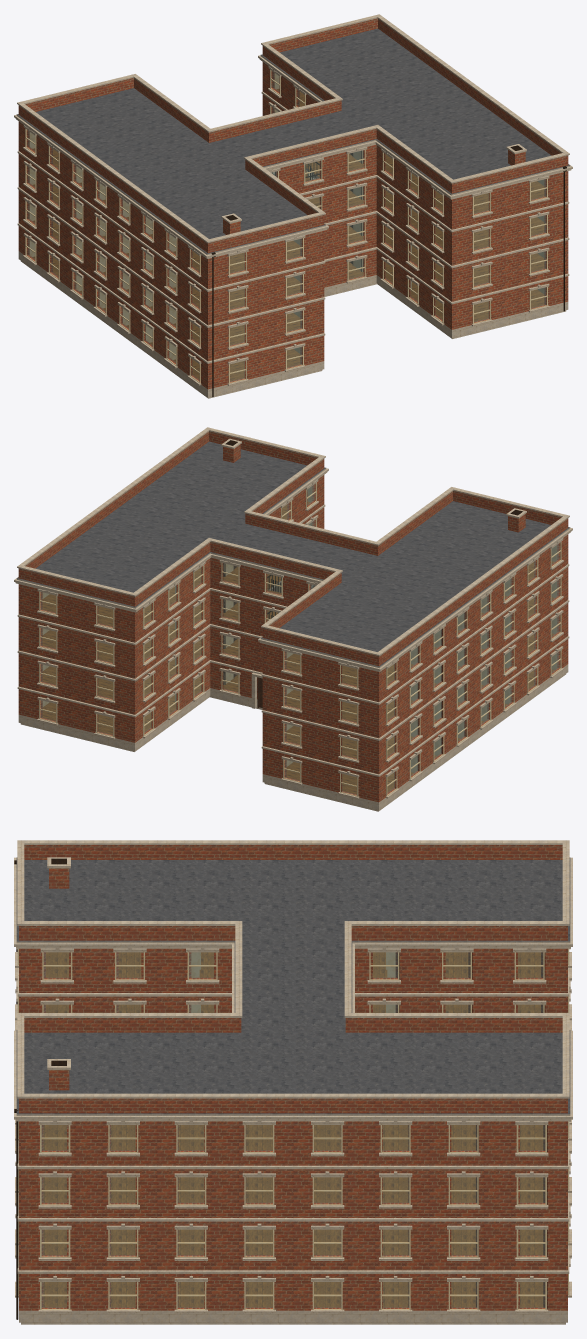
File: bellwether-court.gltf
3 views of the same model, one above another, from view 1: azimuth 30°, elevation 25°; view 2: azimuth 150°, elevation 25°; view 3: azimuth 270°, elevation 25° (orthographic). The views are drawn at different scales.
Parts seen in each view (by area): view 1: roof-L4-felt, exterior-L2-brick, exterior-L1-brick, exterior-L3-brick, parapet-L4-brick, exterior-L0-brick, parapet-L4-stone, exterior-L0-stone, facade-trim-L3-stone, facade-trim-L2-stone, facade-trim-L1-stone, cornice-L4-stone (+20 smaller); view 2: roof-L4-felt, exterior-L2-brick, exterior-L1-brick, exterior-L3-brick, parapet-L4-brick, exterior-L0-brick, parapet-L4-stone, exterior-L0-stone, facade-trim-L3-stone, facade-trim-L2-stone, facade-trim-L1-stone, cornice-L4-stone (+20 smaller); view 3: roof-L4-felt, exterior-L3-brick, parapet-L4-brick, exterior-L2-brick, exterior-L1-brick, parapet-L4-stone, exterior-L0-brick, facade-trim-L3-stone, glazing-L3-glass, floor-L3-wood, cornice-L4-stone, exterior-L0-stone (+17 smaller).
Part boxes in pixels (x1,y1,x2,y2): roof-L4-felt: [17, 28, 569, 253]; exterior-L2-brick: [18, 94, 568, 325]; exterior-L1-brick: [18, 174, 568, 361]; exterior-L3-brick: [18, 62, 568, 289]; parapet-L4-brick: [18, 18, 568, 252]; exterior-L0-brick: [18, 174, 568, 389]; parapet-L4-stone: [17, 14, 569, 243]; exterior-L0-stone: [18, 251, 568, 397]; facade-trim-L3-stone: [17, 66, 569, 291]; facade-trim-L2-stone: [17, 102, 569, 327]; facade-trim-L1-stone: [17, 174, 569, 363]; cornice-L4-stone: [14, 55, 572, 258]; roof-L4-felt: [17, 441, 569, 666]; exterior-L2-brick: [18, 507, 568, 738]; exterior-L1-brick: [18, 585, 568, 774]; exterior-L3-brick: [18, 475, 568, 702]; parapet-L4-brick: [18, 431, 568, 665]; exterior-L0-brick: [18, 639, 568, 802]; parapet-L4-stone: [17, 427, 569, 656]; exterior-L0-stone: [18, 664, 568, 810]; facade-trim-L3-stone: [17, 479, 569, 704]; facade-trim-L2-stone: [17, 515, 569, 740]; facade-trim-L1-stone: [17, 585, 569, 776]; cornice-L4-stone: [14, 468, 572, 671]; roof-L4-felt: [16, 857, 570, 1114]; exterior-L3-brick: [19, 948, 567, 1165]; parapet-L4-brick: [19, 845, 567, 1113]; exterior-L2-brick: [19, 996, 567, 1217]; exterior-L1-brick: [19, 1221, 567, 1270]; parapet-L4-stone: [17, 840, 569, 1098]; exterior-L0-brick: [19, 1274, 567, 1310]; facade-trim-L3-stone: [15, 947, 571, 1169]; glazing-L3-glass: [42, 952, 544, 1150]; floor-L3-wood: [43, 952, 543, 1150]; cornice-L4-stone: [14, 857, 572, 1121]; exterior-L0-stone: [19, 1310, 567, 1322].
Bounding box in the file's own units: 22.52 × 9.55 × 20.52.
Materials: 9 (8 with a texture image).
